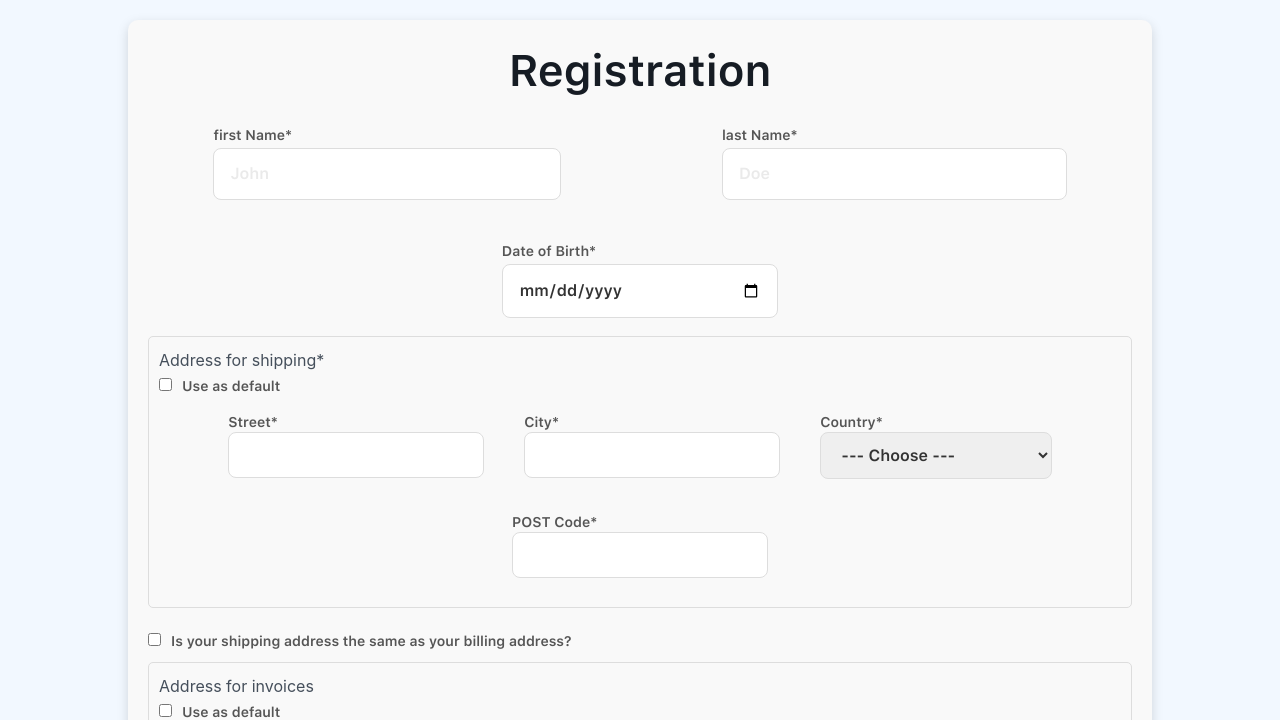
Test: checking choose empty value Country on Registration page › must be error message when empty value in country on Registration page
Select "--- Choose ---" in the dropdown with id "address": (936, 456) x1=820 y1=432 x2=1052 y2=479
Leave the dropdown with id "address", box x1=820 y1=432 x2=1052 y2=479
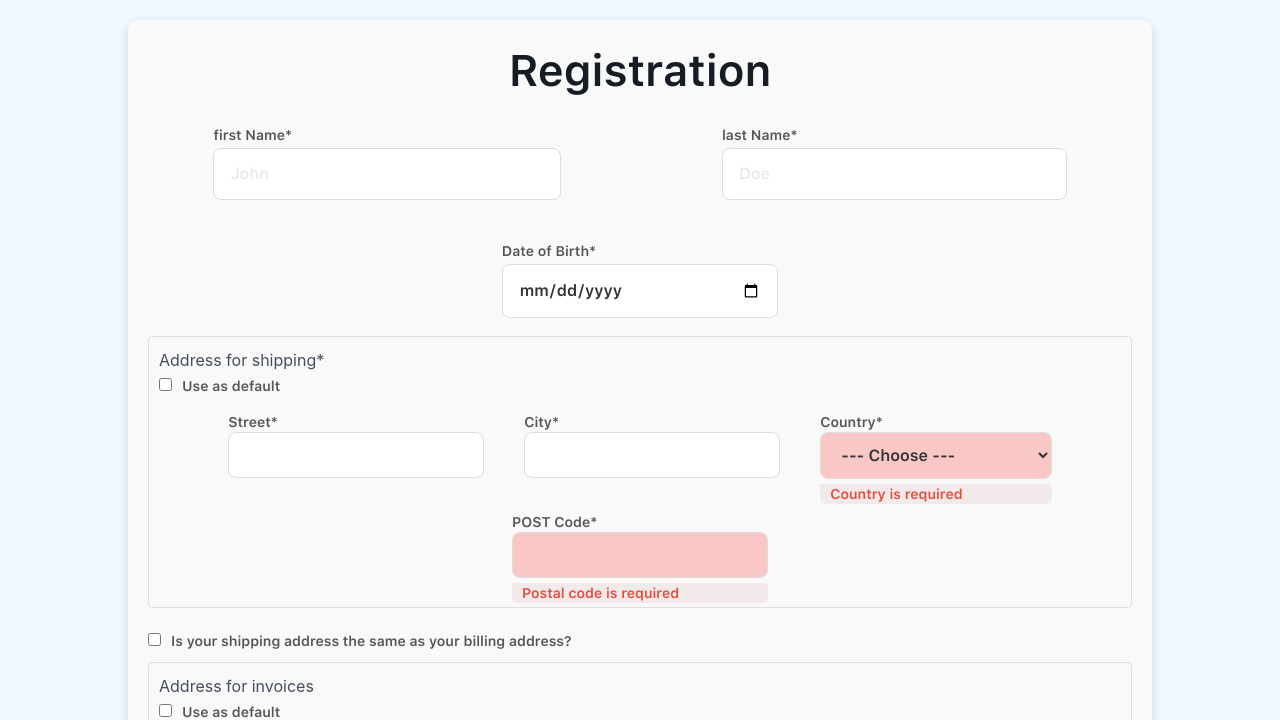
Expected: the text "Country is required" is shown, x1=820 y1=484 x2=1052 y2=504
